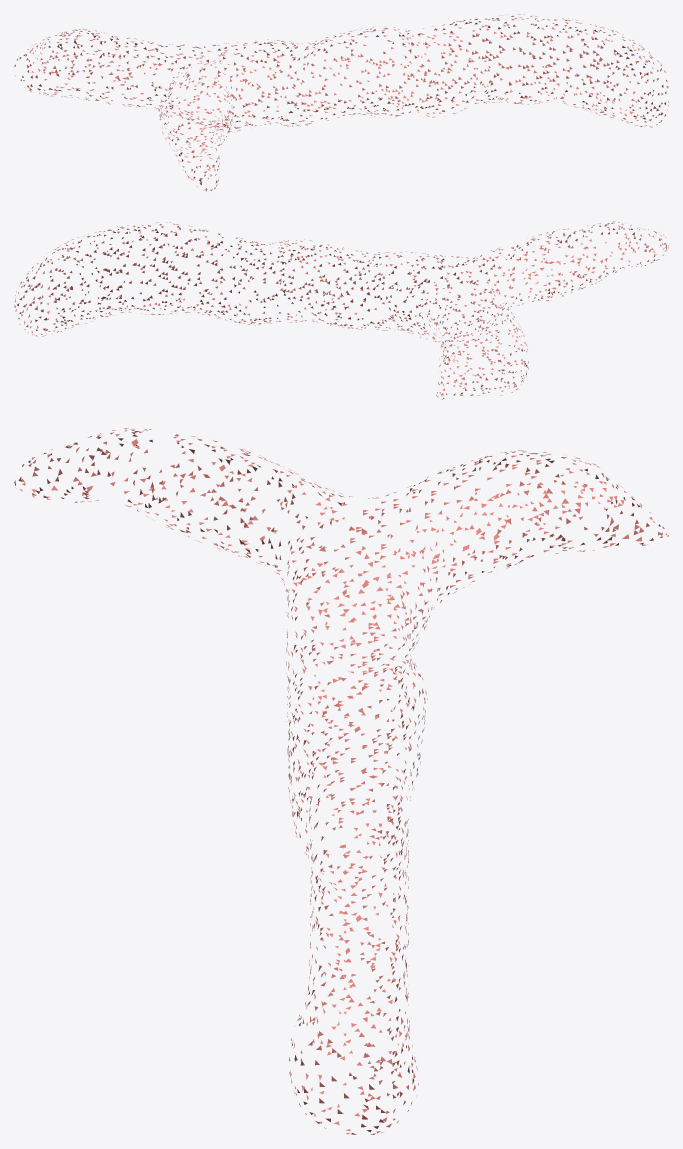
Rendered from morph_001.glb.
The picture shows the model from 3 angles, top to bottom: view 1: azimuth 30°, elevation 25°; view 2: azimuth 150°, elevation 25°; view 3: azimuth 270°, elevation 25°; orthographic projection. The views are drawn at different scales.
Bounding box in the file's own units: 128 × 40 × 78.79.
